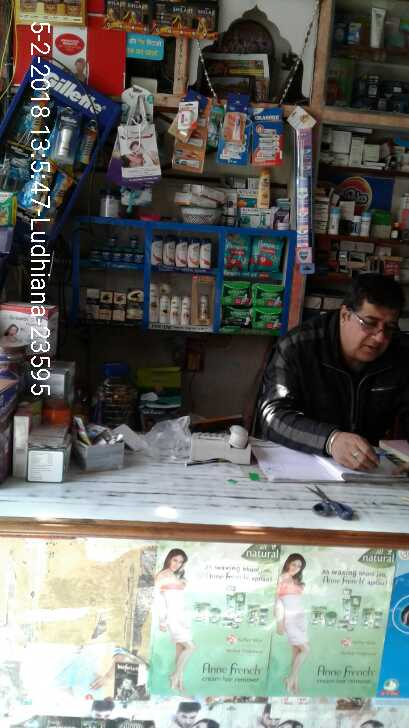vicks: (92, 234, 146, 262)
